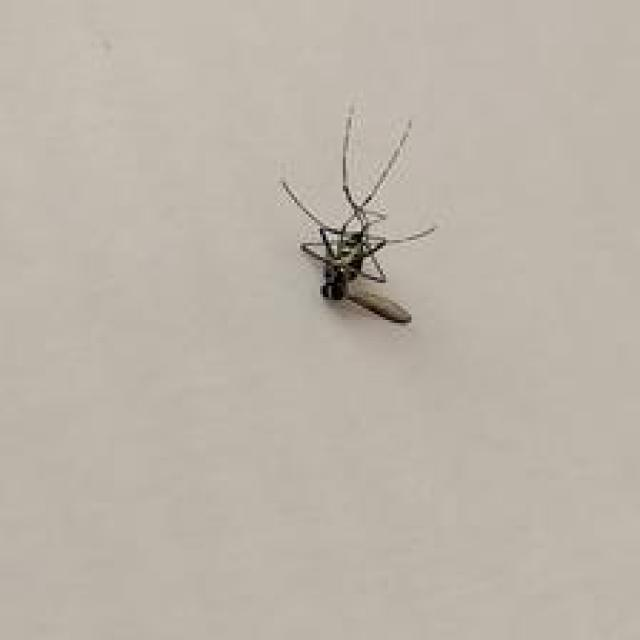Aedes albopictus: (277, 103, 437, 326)
